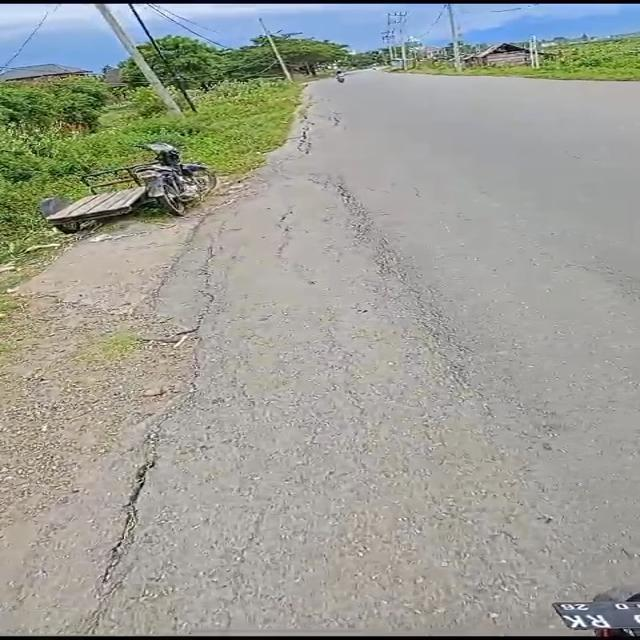Pinggir: (1, 227, 251, 640)
